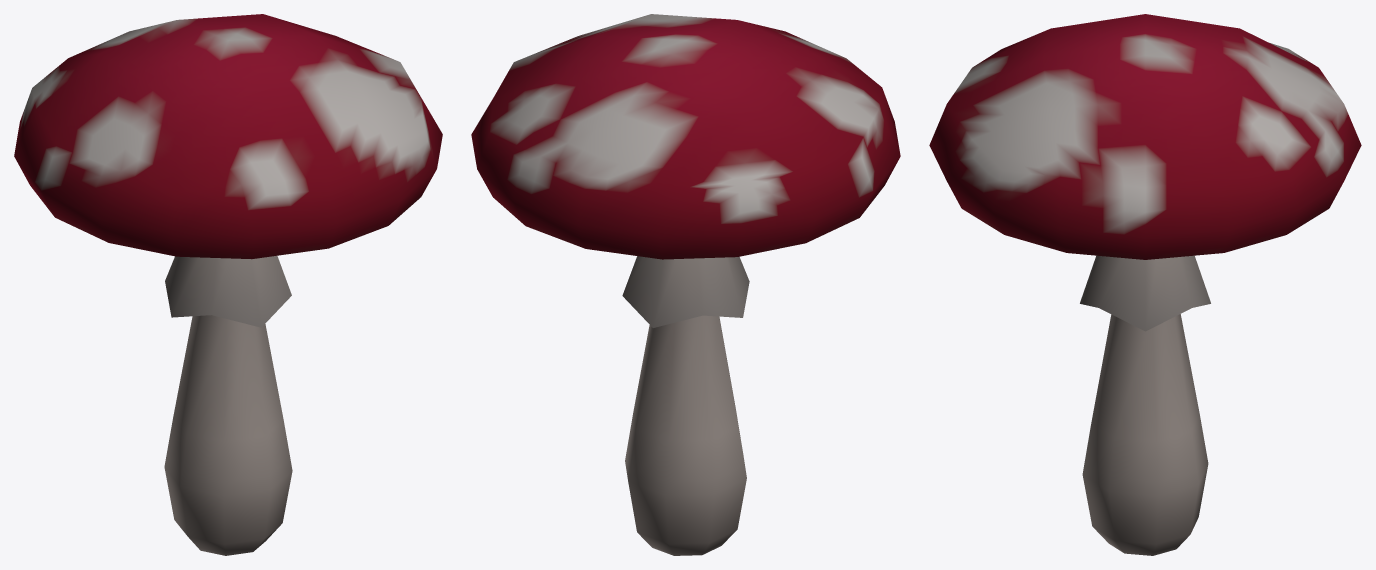
Rendered from prototype.glb.
3 renders of one model, left to right at view 1: azimuth 30°, elevation 25°; view 2: azimuth 150°, elevation 25°; view 3: azimuth 270°, elevation 25°, orthographic.
Visible parts, largest first — view 1: Fly_Agaric_Basic_baked; view 2: Fly_Agaric_Basic_baked; view 3: Fly_Agaric_Basic_baked.
Boxes of the visible parts, bbox=[...] form: Fly_Agaric_Basic_baked: bbox=[14, 14, 442, 555]; Fly_Agaric_Basic_baked: bbox=[471, 14, 900, 555]; Fly_Agaric_Basic_baked: bbox=[929, 14, 1361, 555].
Bounding box in the file's own units: 0.7831 × 1 × 0.7831.
